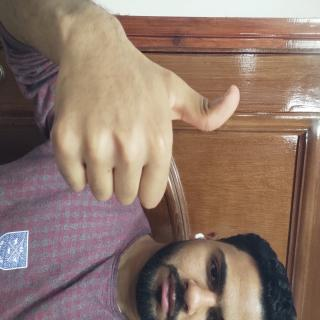ALIF: (16, 101, 163, 320)
